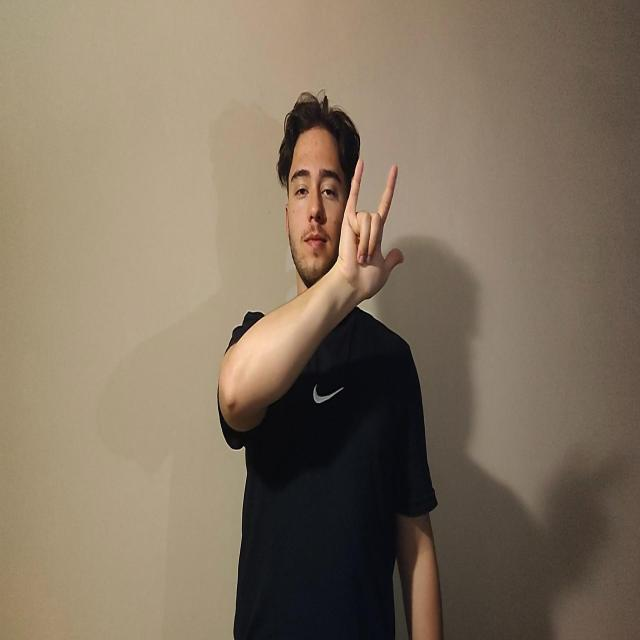iloveyou: (336, 157, 404, 306)
